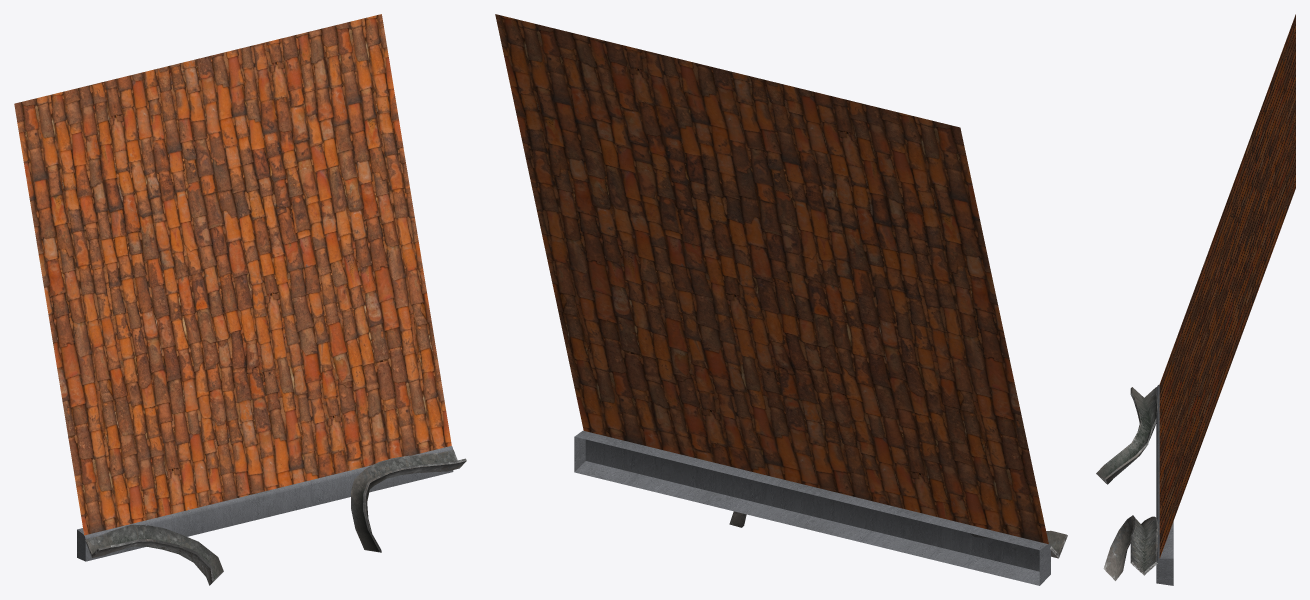
Rendered from SM_Roof_Straight_Broken.fbx.
The picture shows the model from 3 angles, left to right: view 1: azimuth 30°, elevation 25°; view 2: azimuth 150°, elevation 25°; view 3: azimuth 270°, elevation 25°; orthographic projection. The views are drawn at different scales.
Visible parts, largest first — view 1: SM_Roof_Straight_Broken; view 2: SM_Roof_Straight_Broken; view 3: SM_Roof_Straight_Broken.
Part boxes in pixels (x1=…): SM_Roof_Straight_Broken: x1=14, y1=14, x2=466, y2=585; SM_Roof_Straight_Broken: x1=495, y1=14, x2=1067, y2=585; SM_Roof_Straight_Broken: x1=1096, y1=14, x2=1295, y2=585.
Bounding box in the file's own units: 3 × 3.5 × 1.45.
